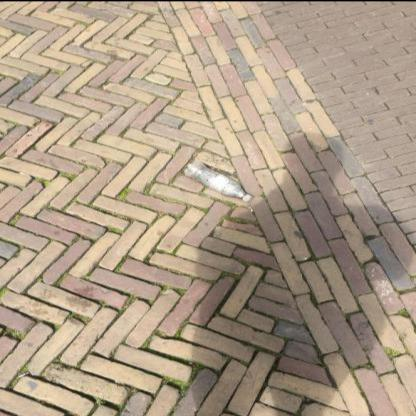Bottle: (243, 193, 252, 201)
Bottle cap: (184, 160, 252, 202)
Unlabeled litter: (16, 372, 29, 378)
